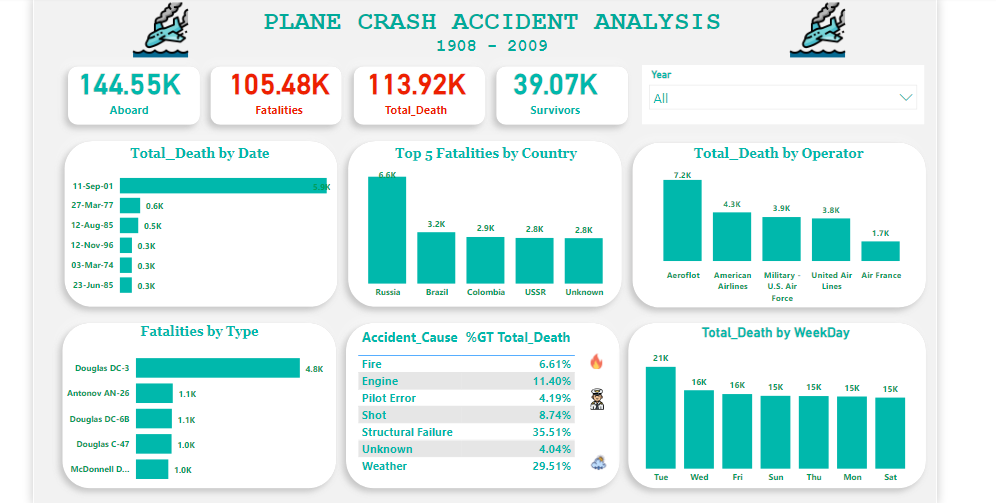

This screenshot's page, from the dashboard's own definition file:
{"tool":"powerbi","page":{"name":"Page 1","canvas":[1280,720],"ordinal":0},"visuals":[{"type":"tableEx","fields":{"Values":["Cleaned_Airplane_Crashes_and_Fatalities_Since_1908.Accident_Cause","Sum(Cleaned_Airplane_Crashes_and_Fatalities_Since_1908.Total_Death)"]},"box":[455.2,463.6,344.4,226.8],"z":0},{"type":"slicer","fields":{"Values":["Cleaned_Airplane_Crashes_and_Fatalities_Since_1908.Year"]},"box":[863.1,96.4,399.7,83.6],"z":2000},{"type":"card","fields":{"Values":["Sum(Cleaned_Airplane_Crashes_and_Fatalities_Since_1908.Fatalities)"]},"box":[225.1,63.8,246.9,131],"z":6000},{"type":"columnChart","title":"Top 5 Fatalities by Country","fields":{"Category":["Cleaned_Airplane_Crashes_and_Fatalities_Since_1908.Country"],"Y":["Sum(Cleaned_Airplane_Crashes_and_Fatalities_Since_1908.Fatalities)"]},"box":[441.8,211.7,399.8,225.1],"z":8000},{"type":"columnChart","fields":{"Category":["Cleaned_Airplane_Crashes_and_Fatalities_Since_1908.Operator"],"Y":["Sum(Cleaned_Airplane_Crashes_and_Fatalities_Since_1908.Total_Death)"]},"box":[850,211.7,413.2,230.1],"z":9000},{"type":"barChart","fields":{"Category":["Cleaned_Airplane_Crashes_and_Fatalities_Since_1908.Date"],"Y":["Sum(Cleaned_Airplane_Crashes_and_Fatalities_Since_1908.Total_Death)"]},"box":[47,211.7,379.6,225.1],"z":10000},{"type":"card","fields":{"Values":["Sum(Cleaned_Airplane_Crashes_and_Fatalities_Since_1908.Aboard)"]},"box":[13.4,63.8,246.9,131],"z":10001},{"type":"card","fields":{"Values":["Sum(Cleaned_Airplane_Crashes_and_Fatalities_Since_1908.Total_Death)"]},"box":[419.9,63.8,246.9,131],"z":10002},{"type":"card","fields":{"Values":["Sum(Cleaned_Airplane_Crashes_and_Fatalities_Since_1908.Survivors)"]},"box":[616.5,63.8,246.9,131],"z":10003},{"type":"image","box":[769.3,549.3,58.8,40.3],"z":10004},{"type":"image","box":[779.4,500.6,37,31.9],"z":10005},{"type":"image","box":[752.5,643.4,97.4,31.9],"z":10006},{"type":"barChart","fields":{"Y":["Sum(Cleaned_Airplane_Crashes_and_Fatalities_Since_1908.Fatalities)"],"Category":["Cleaned_Airplane_Crashes_and_Fatalities_Since_1908.Type"]},"box":[29.8,463.5,412.4,239.5],"z":10007},{"type":"textbox","box":[230.1,10.1,841.6,105.8],"z":10008},{"type":"image","box":[12.8,0,335.9,96.4],"z":10009},{"type":"image","box":[943.9,0,335.9,96.4],"z":10010},{"type":"columnChart","fields":{"Category":["Cleaned_Airplane_Crashes_and_Fatalities_Since_1908.WeekDay"],"Y":["Sum(Cleaned_Airplane_Crashes_and_Fatalities_Since_1908.Total_Death)"]},"box":[841.6,463.6,421.6,235.2],"z":10011}]}

Visuals, with their boxes on the page's 1280x720 design canvas (x1, y1, x2, y2). These are canvas units, not pixel positions in the 996x503 screenshot, which may show the page scaled, cropped or inside an application window:
tableEx - Cleaned_Airplane_Crashes_and_Fatalities_Since_1908.Accident_Cause x Sum(Cleaned_Airplane_Crashes_and_Fatalities_Since_1908.Total_Death): select_region(455, 464, 800, 690)
slicer - Cleaned_Airplane_Crashes_and_Fatalities_Since_1908.Year: select_region(863, 96, 1263, 180)
card - Sum(Cleaned_Airplane_Crashes_and_Fatalities_Since_1908.Fatalities): select_region(225, 64, 472, 195)
"Top 5 Fatalities by Country" columnChart: select_region(442, 212, 842, 437)
columnChart - Cleaned_Airplane_Crashes_and_Fatalities_Since_1908.Operator x Sum(Cleaned_Airplane_Crashes_and_Fatalities_Since_1908.Total_Death): select_region(850, 212, 1263, 442)
barChart - Cleaned_Airplane_Crashes_and_Fatalities_Since_1908.Date x Sum(Cleaned_Airplane_Crashes_and_Fatalities_Since_1908.Total_Death): select_region(47, 212, 427, 437)
card - Sum(Cleaned_Airplane_Crashes_and_Fatalities_Since_1908.Aboard): select_region(13, 64, 260, 195)
card - Sum(Cleaned_Airplane_Crashes_and_Fatalities_Since_1908.Total_Death): select_region(420, 64, 667, 195)
card - Sum(Cleaned_Airplane_Crashes_and_Fatalities_Since_1908.Survivors): select_region(616, 64, 863, 195)
image: select_region(769, 549, 828, 590)
image: select_region(779, 501, 816, 532)
image: select_region(752, 643, 850, 675)
barChart - Sum(Cleaned_Airplane_Crashes_and_Fatalities_Since_1908.Fatalities) x Cleaned_Airplane_Crashes_and_Fatalities_Since_1908.Type: select_region(30, 464, 442, 703)
textbox: select_region(230, 10, 1072, 116)
image: select_region(13, 0, 349, 96)
image: select_region(944, 0, 1280, 96)
columnChart - Cleaned_Airplane_Crashes_and_Fatalities_Since_1908.WeekDay x Sum(Cleaned_Airplane_Crashes_and_Fatalities_Since_1908.Total_Death): select_region(842, 464, 1263, 699)
